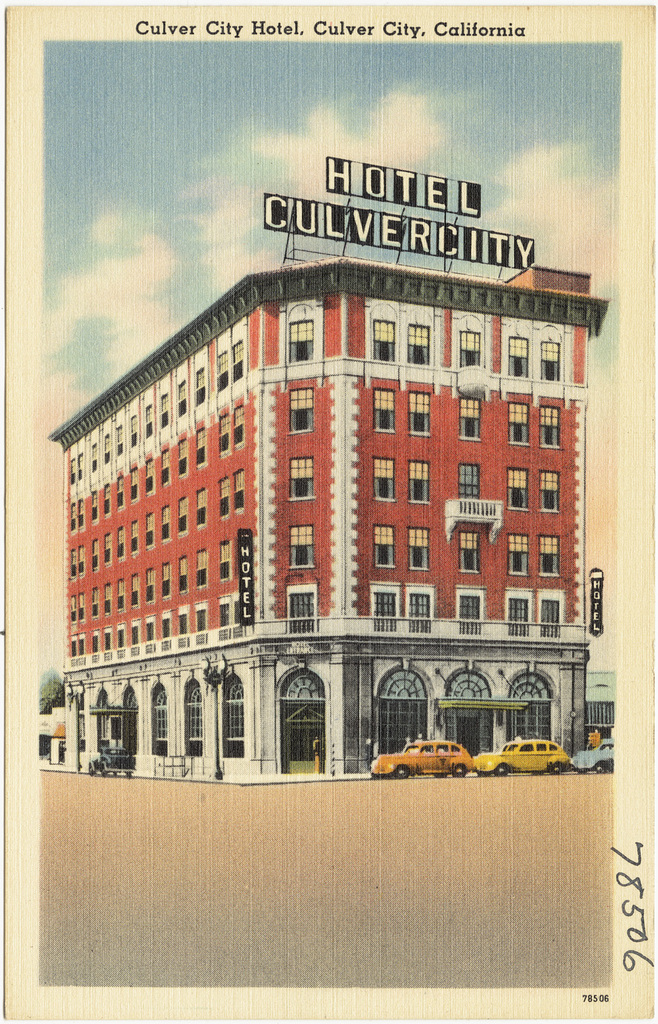Car: (370, 732, 480, 776), (472, 737, 578, 776), (566, 736, 621, 780)
